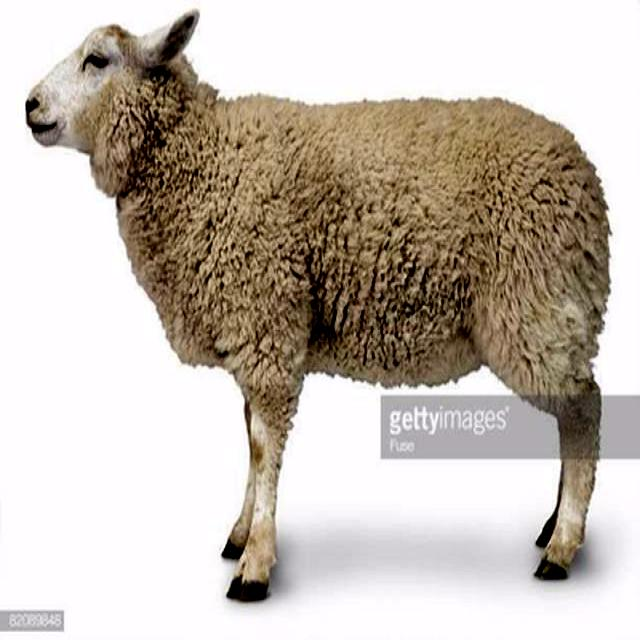sheep: (27, 7, 611, 600)
